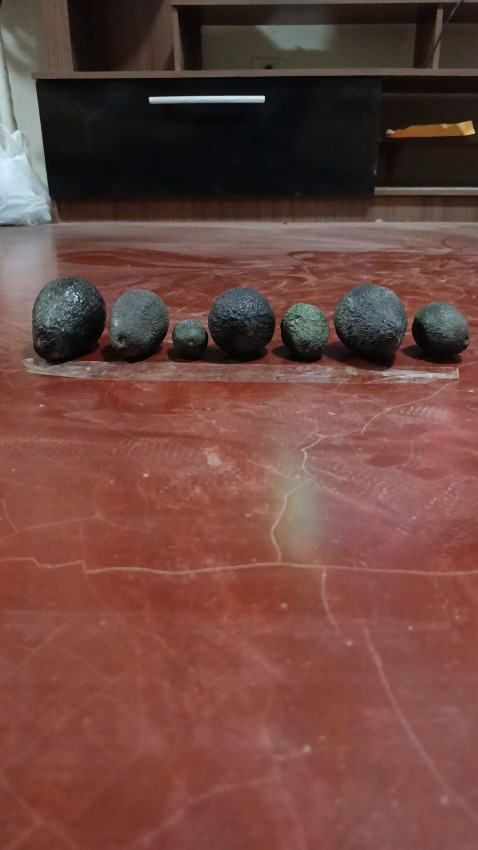Primera: (30, 276, 107, 362), (333, 283, 409, 360), (207, 286, 275, 358), (107, 288, 172, 360)
Segunda: (410, 300, 469, 359), (279, 302, 330, 361)
Tercera: (171, 319, 207, 358)
